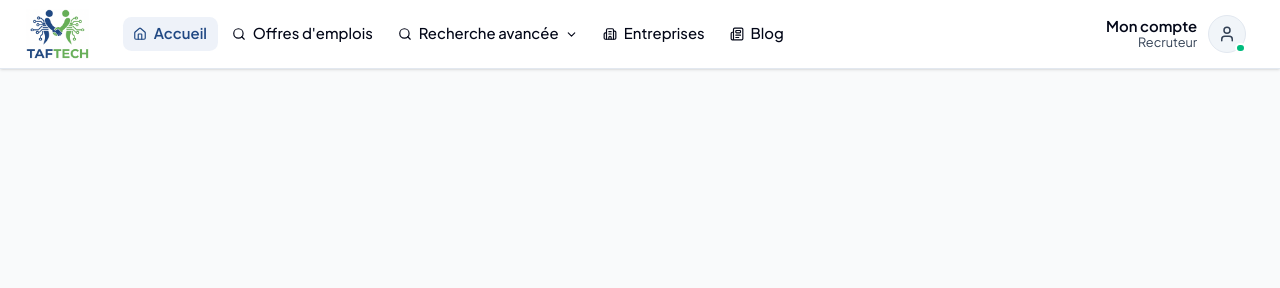
Test: 🖥️ UI & Logique - Composant <Navbar /> › 🟢 Happy Path 3 : Menu Déroulant Recruteur
Click the text "Mon compte": (1152, 26) x1=1106 y1=17 x2=1197 y2=35
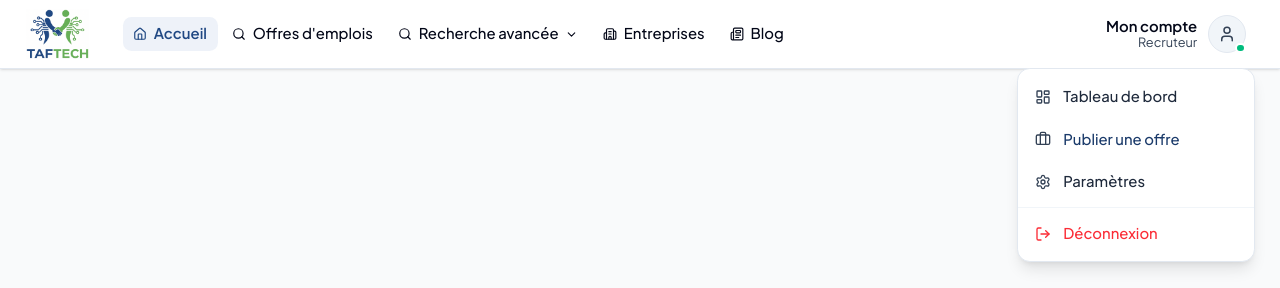
Expected: the text "Publier une offre" is shown, x1=1063 y1=128 x2=1180 y2=150
